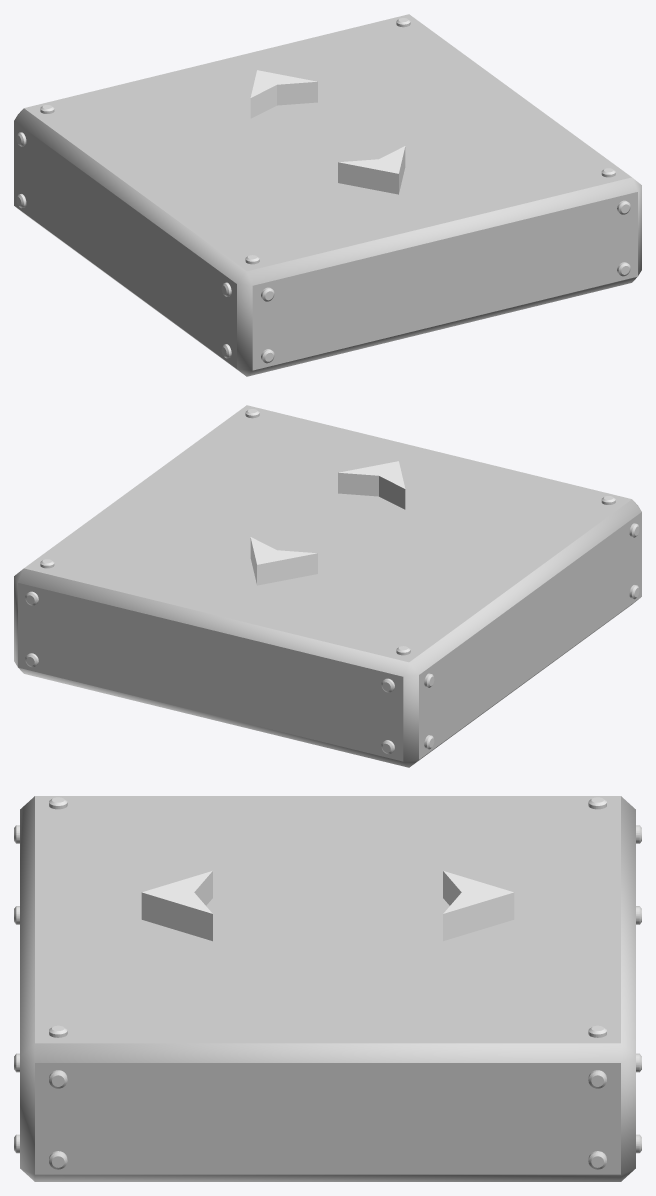
File: Platform_with_arrows.fbx
3 views of the same model, one above another, from view 1: azimuth 30°, elevation 25°; view 2: azimuth 150°, elevation 25°; view 3: azimuth 270°, elevation 25° (orthographic). The views are drawn at different scales.
Visible parts, largest first — view 1: Body, Arrows, rivets; view 2: Body, Arrows, rivets; view 3: Body, Arrows, rivets.
Boxes of the visible parts, <box> form: Body: <box>14,14,641,376</box>; Arrows: <box>250,70,405,194</box>; rivets: <box>16,18,630,363</box>; Body: <box>14,405,641,767</box>; Arrows: <box>250,461,405,585</box>; rivets: <box>25,409,639,754</box>; Body: <box>20,796,635,1181</box>; Arrows: <box>141,871,514,941</box>; rivets: <box>14,797,641,1169</box>.
Bounding box in the file's own units: 203 × 204 × 61.51.
